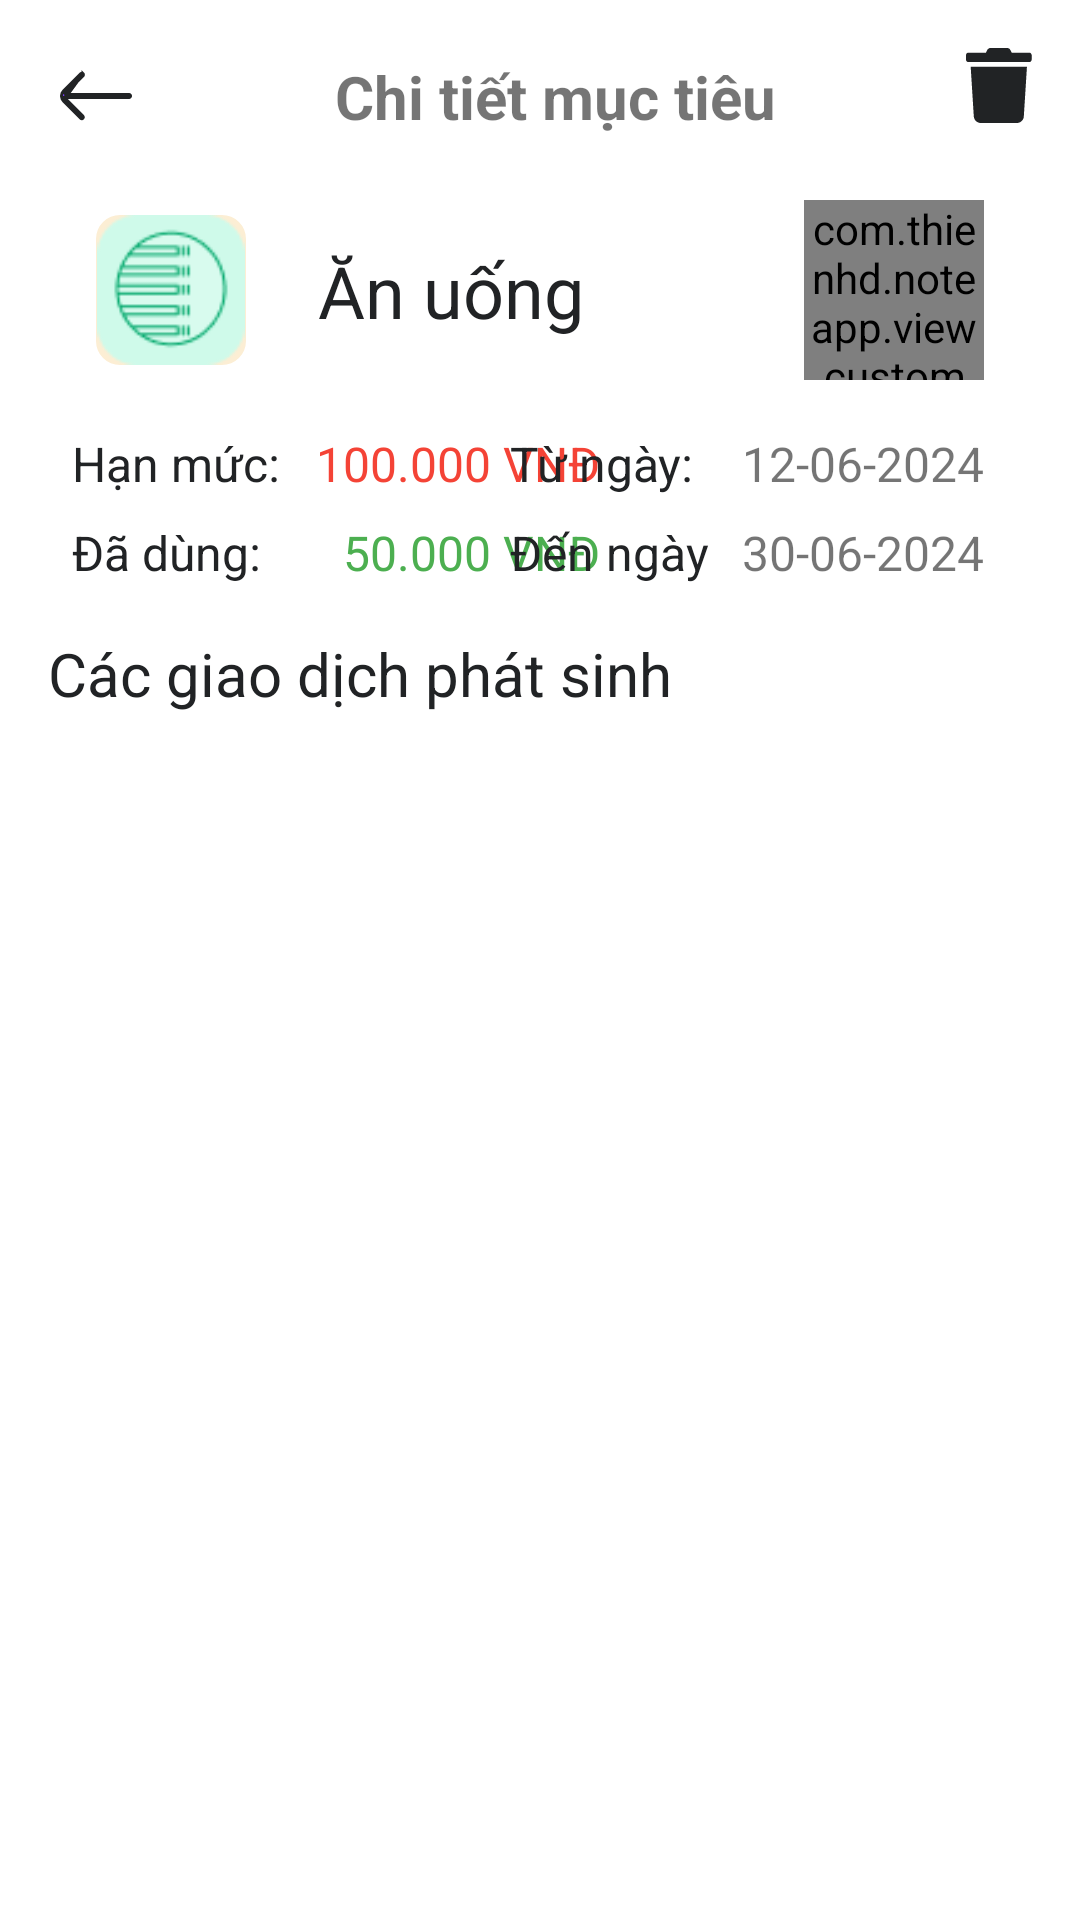

Icon bounding boxes for this 1080px x 1920px phone screenshot, format BBox(x1, y1, x2, y2):
back: BBox(60, 70, 132, 121)
trash: BBox(966, 48, 1032, 123)
